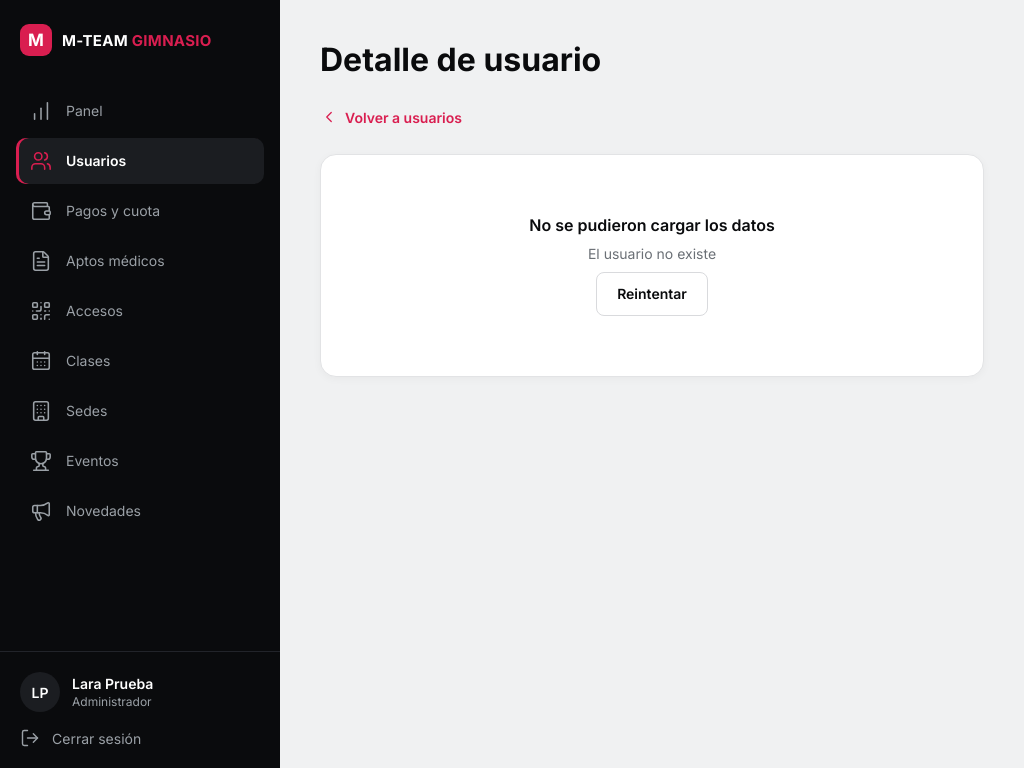
Test: detalle de usuarios del administrador › mantiene estados de error del detalle y permite reintentar
expect the text "El usuario no existe" is shown: met, box top-left (588, 243), bottom-right (716, 264)
Click the button "Reintentar" at [652, 294], box top-left (596, 272), bottom-right (708, 316)
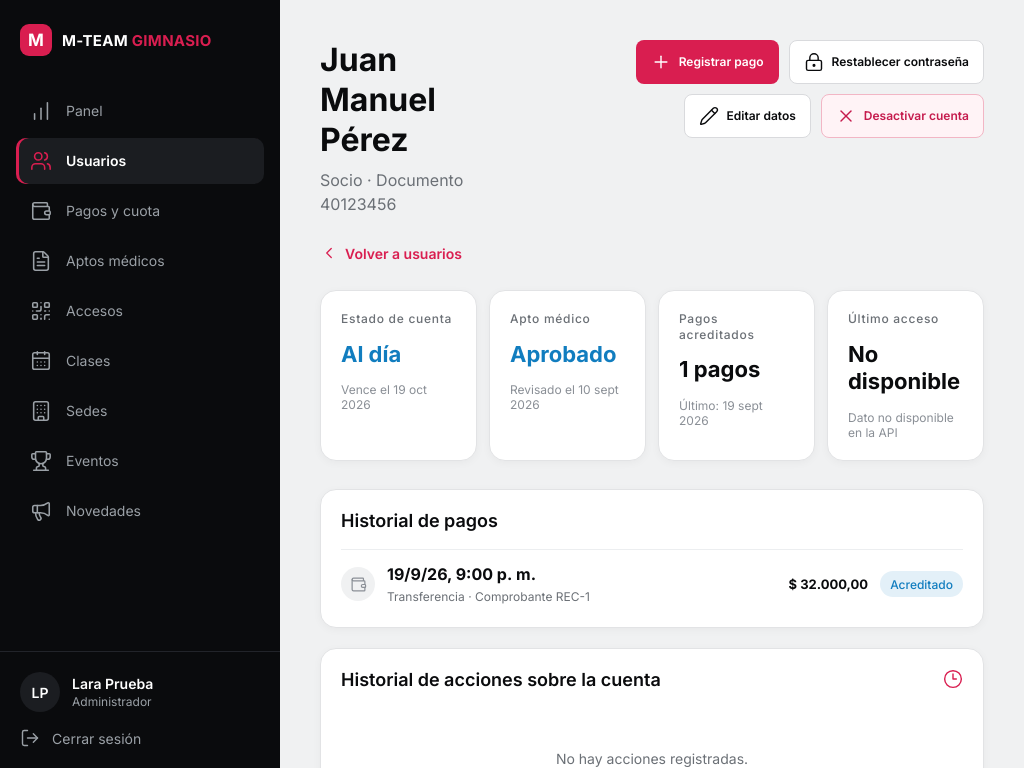
expect the heading "Juan Manuel Pérez" is shown: met, box top-left (320, 40), bottom-right (436, 159)
